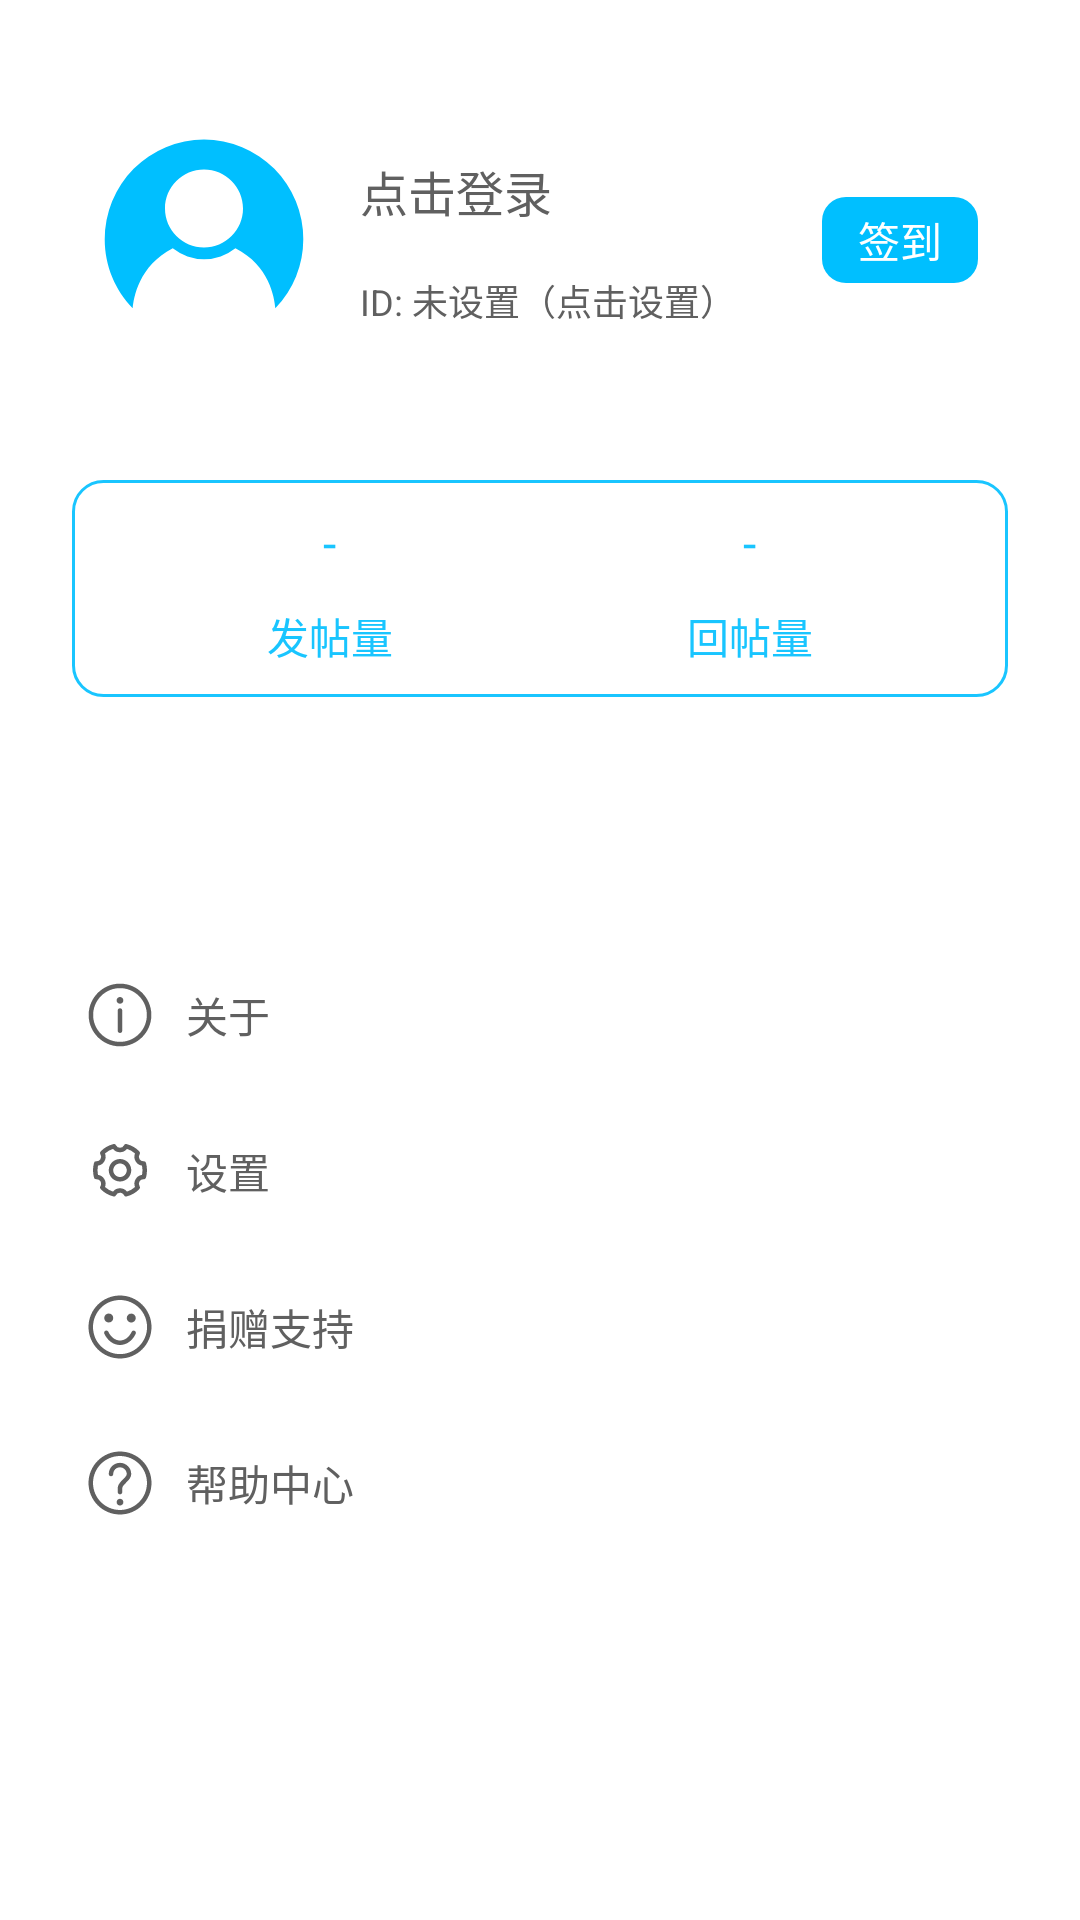

Named icons in this screenshot (1080×1920) and their bounding boxes, (x1, y1, x2, y2):
explain: (88, 1451, 152, 1515)
